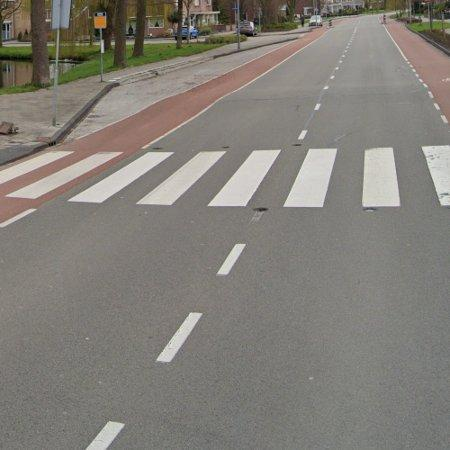crosswalks: (0, 145, 450, 210)
